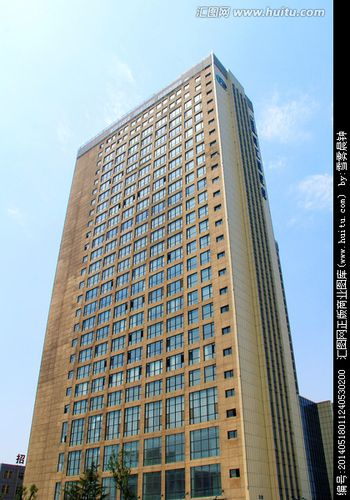buildings: (29, 84, 293, 496)
